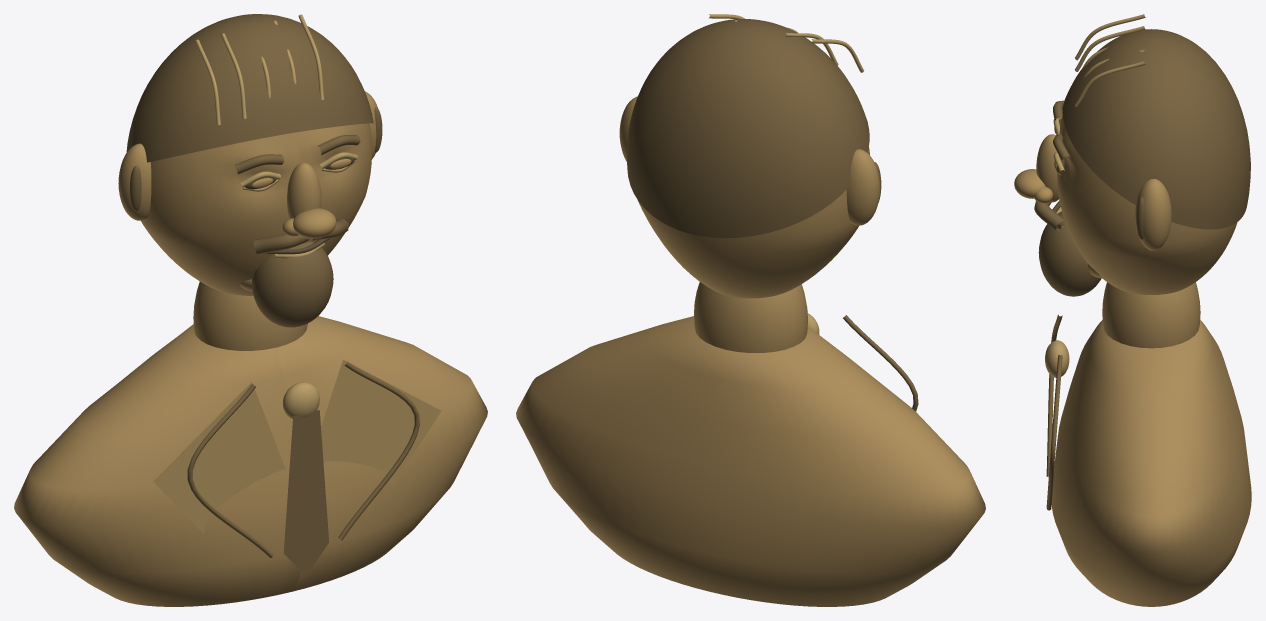
Rendered from nilo.glb.
3 renders of one model, left to right at view 1: azimuth 30°, elevation 25°; view 2: azimuth 150°, elevation 25°; view 3: azimuth 270°, elevation 25°, orthographic. The views are drawn at different scales.
Visible parts, largest first — view 1: nilo; view 2: nilo; view 3: nilo.
Boxes of the visible parts, bbox=[...] form: nilo: bbox=[14, 14, 487, 606]; nilo: bbox=[516, 14, 985, 606]; nilo: bbox=[1014, 14, 1251, 606].
Size of the model in its own units: 1.22 by 1.36 by 0.58.
